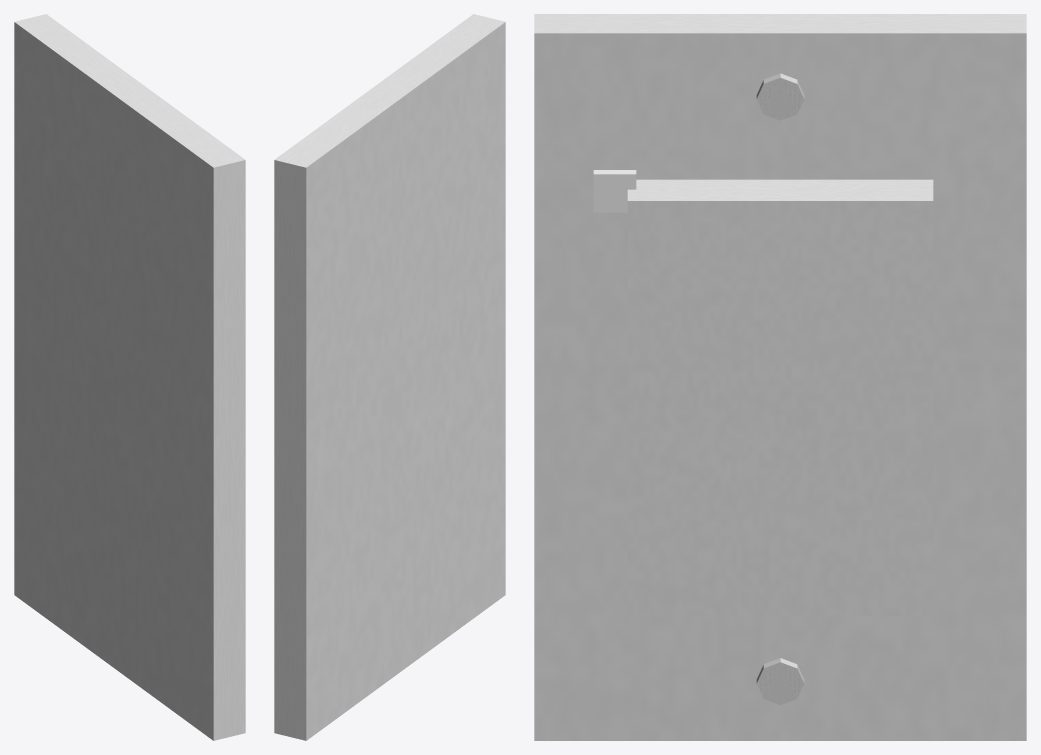
The model's file is wirelesspaddleswitch.obj.
3 views of the same model, side by side, from view 1: azimuth 30°, elevation 25°; view 2: azimuth 150°, elevation 25°; view 3: azimuth 270°, elevation 25° (orthographic). The views are drawn at different scales.
Visible parts, largest first — view 1: Plate; view 2: Plate; view 3: Plate, Lever, Trim, Indicator.
Boxes of the visible parts, box(x1,y1,x2,y2) form: Plate: box(14, 14, 245, 740); Plate: box(274, 14, 505, 740); Plate: box(534, 14, 1026, 740); Lever: box(627, 179, 933, 616); Trim: box(756, 73, 804, 705); Indicator: box(593, 170, 636, 212).
Bounding box in the file's own units: 0.057 × 0.46 × 0.29.
